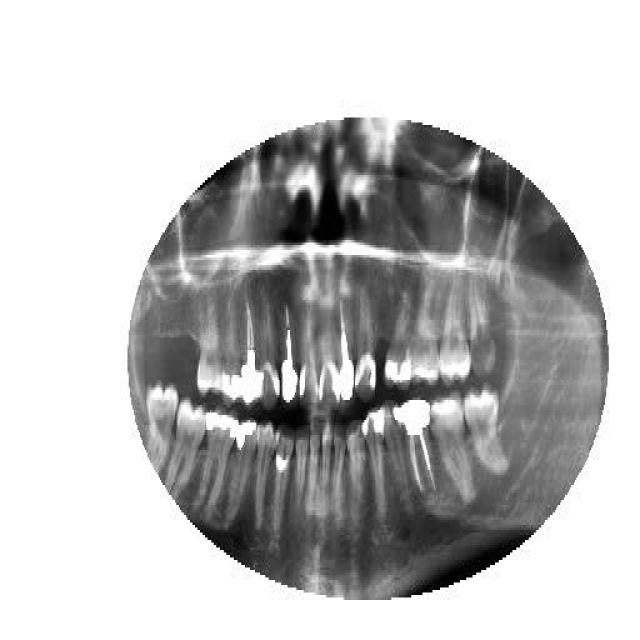Cavity: (466, 275, 496, 380)
Fillings: (196, 407, 238, 515), (224, 418, 258, 530), (361, 408, 385, 522), (385, 285, 409, 390), (224, 292, 240, 408)
Implant: (393, 395, 438, 503), (240, 285, 260, 407), (340, 277, 355, 405), (282, 298, 298, 410)
